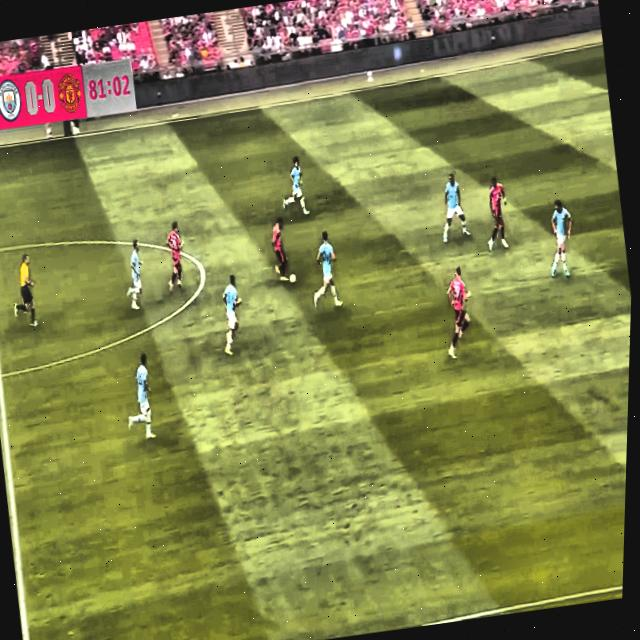ball: (286, 263, 303, 295)
players: (114, 346, 171, 448), (435, 262, 485, 372), (539, 190, 586, 290), (210, 262, 254, 356), (474, 164, 517, 257), (430, 168, 477, 252), (274, 144, 319, 229), (304, 233, 349, 314), (157, 216, 197, 302), (117, 234, 156, 318), (264, 210, 294, 288)
refree: (3, 245, 47, 332)
